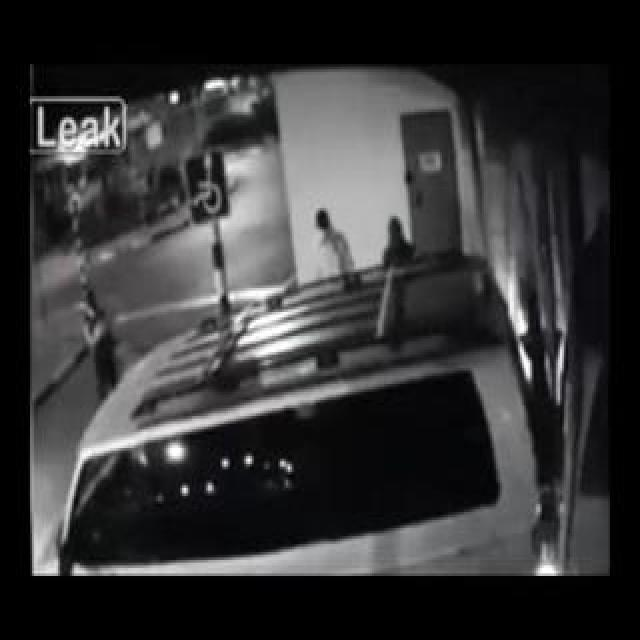burglary: (467, 221, 578, 468)
